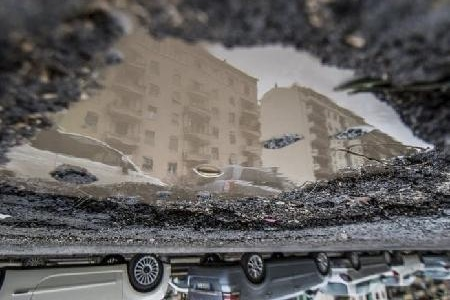pothole: (0, 19, 450, 238)
